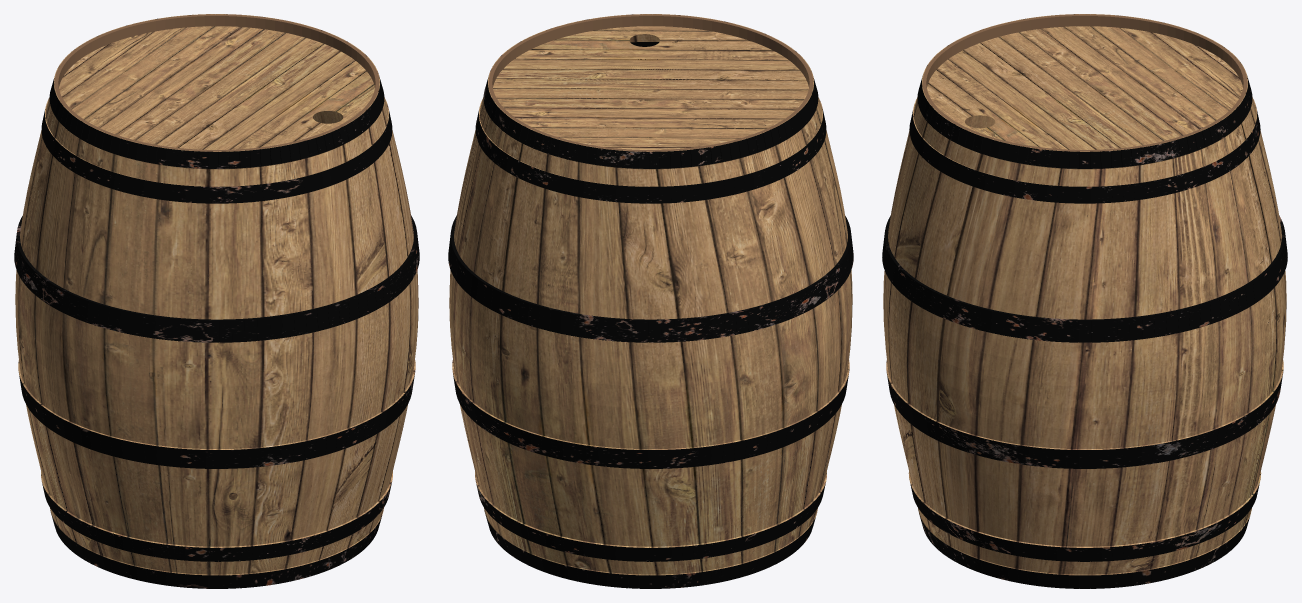
File: barrel.obj
3 views of the same model, side by side, from view 1: azimuth 30°, elevation 25°; view 2: azimuth 150°, elevation 25°; view 3: azimuth 270°, elevation 25° (orthographic).
Visible parts, largest first — view 1: Cylinder_Cylinder.002_Cylinder_Cylinder.002_Side_Wood, Cylinder_Cylinder.002_Cylinder_Cylinder.002_Metal_Strip; view 2: Cylinder_Cylinder.002_Cylinder_Cylinder.002_Side_Wood, Cylinder_Cylinder.002_Cylinder_Cylinder.002_Metal_Strip; view 3: Cylinder_Cylinder.002_Cylinder_Cylinder.002_Side_Wood, Cylinder_Cylinder.002_Cylinder_Cylinder.002_Metal_Strip.
Boxes of the visible parts, x1,y1,x2,y2 form: Cylinder_Cylinder.002_Cylinder_Cylinder.002_Side_Wood: [15, 14, 418, 575]; Cylinder_Cylinder.002_Cylinder_Cylinder.002_Metal_Strip: [14, 77, 419, 588]; Cylinder_Cylinder.002_Cylinder_Cylinder.002_Side_Wood: [449, 14, 852, 575]; Cylinder_Cylinder.002_Cylinder_Cylinder.002_Metal_Strip: [448, 42, 853, 588]; Cylinder_Cylinder.002_Cylinder_Cylinder.002_Side_Wood: [883, 14, 1286, 575]; Cylinder_Cylinder.002_Cylinder_Cylinder.002_Metal_Strip: [882, 76, 1287, 588].
Size of the model in its own units: 2.55 by 3.04 by 2.56.
Materials: 2 (2 with a texture image).
